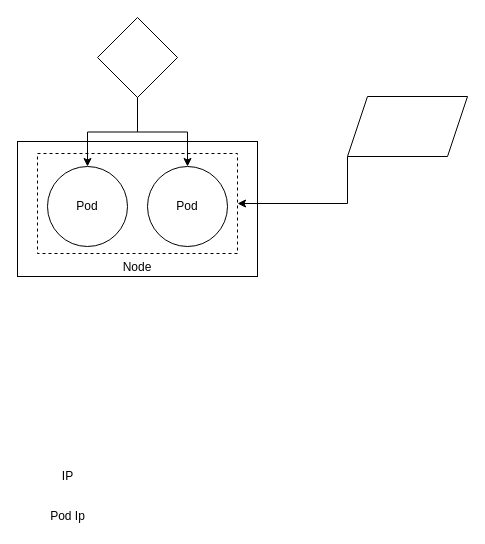
This 485x544 diagram has some shape labels left out. Each missing label, with the centre of its shape:
"Replication Controller" belongs at point (407, 126).
"Service" belongs at point (137, 57).
